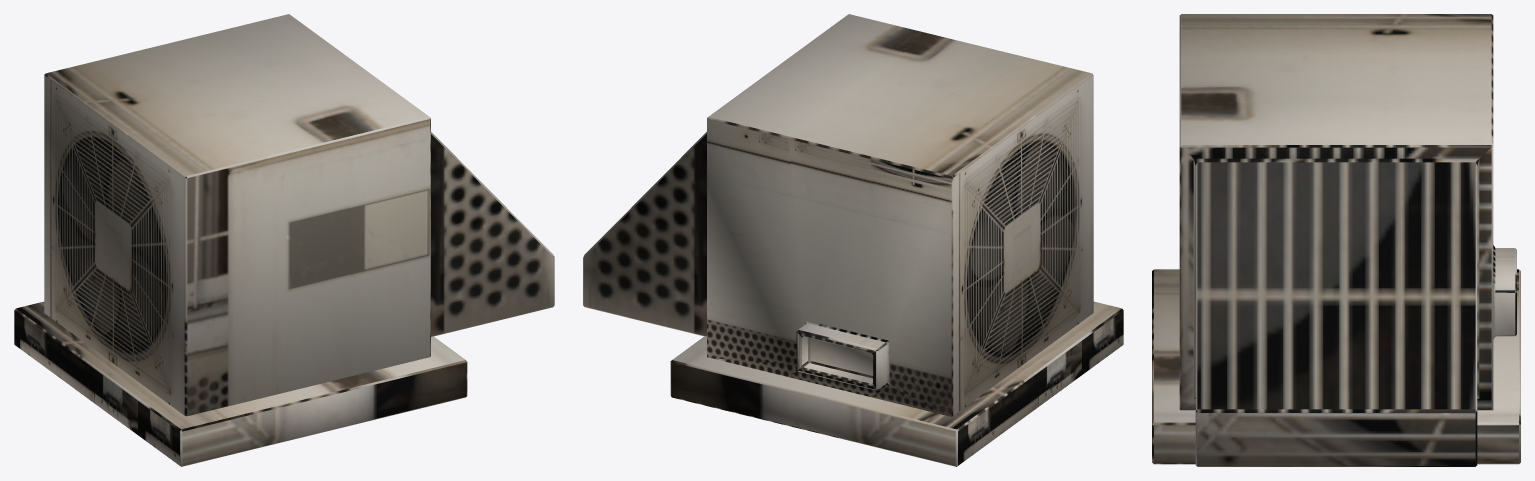
3 renders of one model, left to right at view 1: azimuth 30°, elevation 25°; view 2: azimuth 150°, elevation 25°; view 3: azimuth 270°, elevation 25°, orthographic. The views are drawn at different scales.
Parts seen in each view (by area): view 1: AC Box 2; view 2: AC Box 2; view 3: AC Box 2.
Part boxes in pixels (<box>): AC Box 2: <box>14,14,554,466</box>; AC Box 2: <box>583,14,1123,466</box>; AC Box 2: <box>1152,14,1520,466</box>.
Bounding box in the file's own units: 1.81 × 1.22 × 1.33.
1 material, 1 textured.
